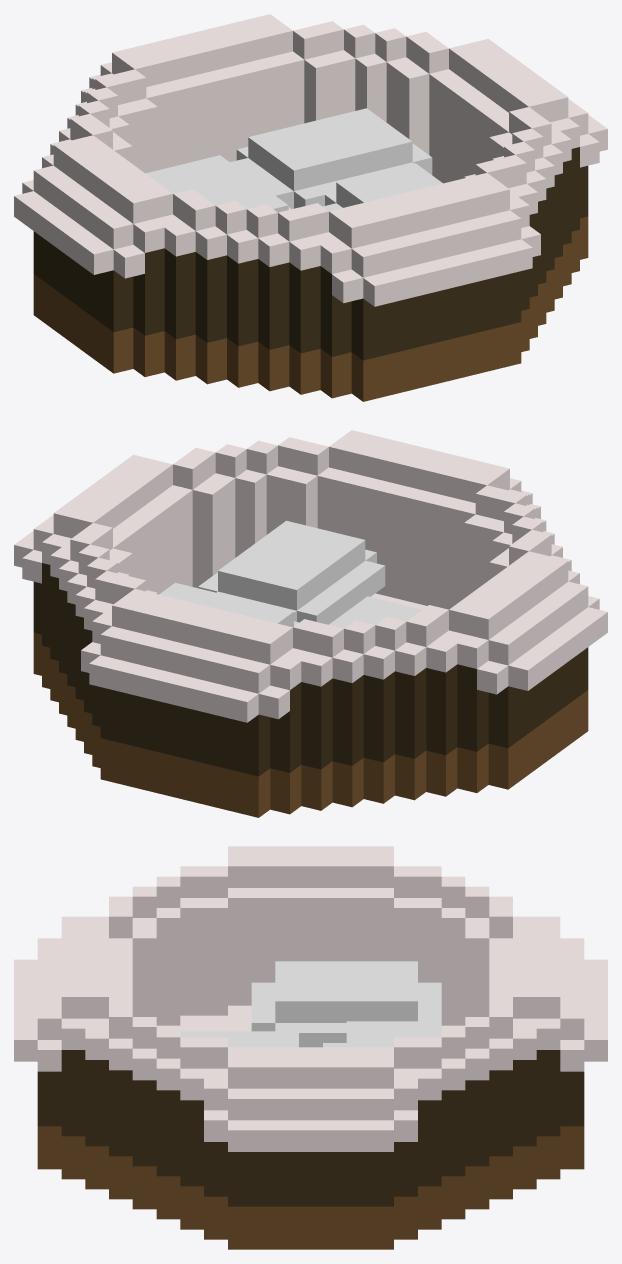
Rendered from born_mantow.fbx.
3 views of the same model, one above another, from view 1: azimuth 30°, elevation 25°; view 2: azimuth 150°, elevation 25°; view 3: azimuth 270°, elevation 25° (orthographic). The views are drawn at different scales.
Parts seen in each view (by area): view 1: born_mantow:born_mantow; view 2: born_mantow:born_mantow; view 3: born_mantow:born_mantow.
Boxes of the visible parts, <box> form: born_mantow:born_mantow: <box>14,14,607,401</box>; born_mantow:born_mantow: <box>14,430,607,817</box>; born_mantow:born_mantow: <box>14,846,607,1249</box>.
Bounding box in the file's own units: 26 × 8 × 25.
